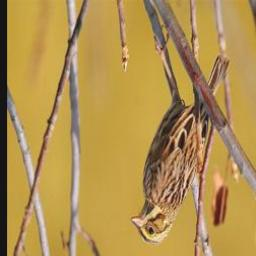Sparrow: (132, 24, 233, 248)
